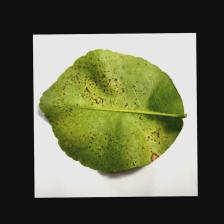canker: (60, 69, 114, 107)
